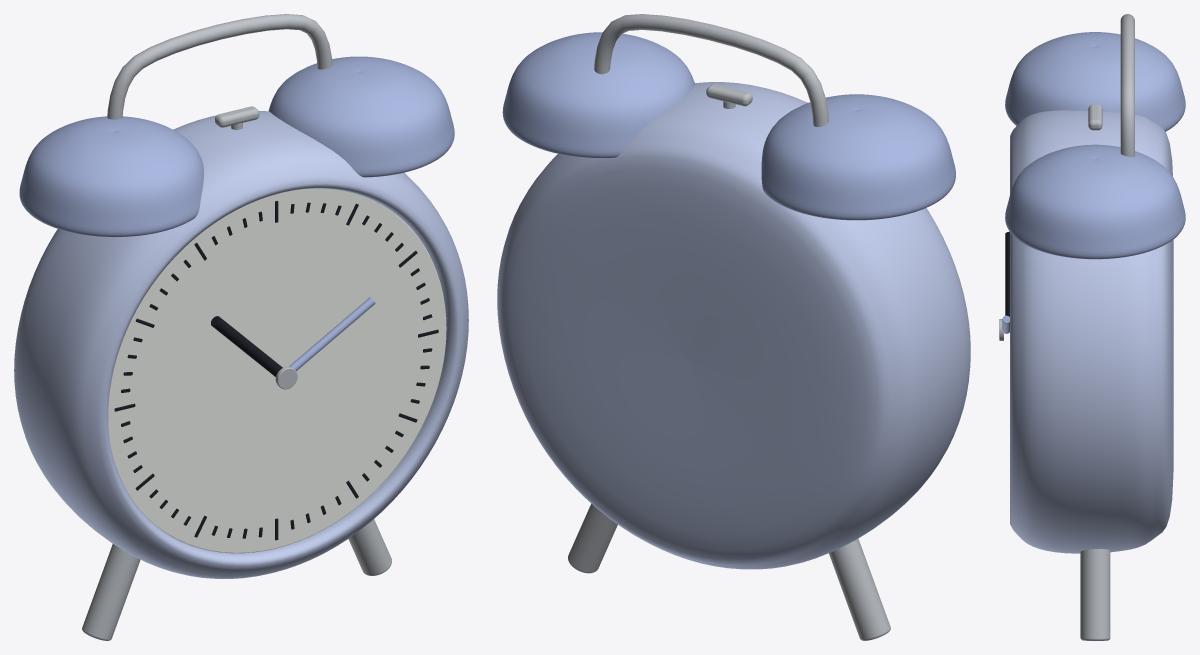
The model's file is alarm-clock.glb.
3 renders of one model, left to right at view 1: azimuth 30°, elevation 25°; view 2: azimuth 150°, elevation 25°; view 3: azimuth 270°, elevation 25°, orthographic. The views are drawn at different scales.
Parts seen in each view (by area): view 1: exposed-clock-dial-004, rounded-clock-case, hollow-domed-alarm-bell (×2), fixed-bell-supports-070, clock-case-and-legs-002, clock-case-and-legs-003, hour-hand-065, minute-hand-066; view 2: rounded-clock-case, hollow-domed-alarm-bell (×2), fixed-bell-supports-070, clock-case-and-legs-002, clock-case-and-legs-003, oscillating-alarm-hammer-074; view 3: rounded-clock-case, hollow-domed-alarm-bell (×2), clock-case-and-legs-003, fixed-bell-supports-070, hour-hand-065, oscillating-alarm-hammer-074.
Boxes of the visible parts, left/top/right/bottom form: exposed-clock-dial-004: left=108, top=188, right=446, bottom=553; rounded-clock-case: left=14, top=111, right=468, bottom=578; hollow-domed-alarm-bell (×2): left=19, top=56, right=454, bottom=237; fixed-bell-supports-070: left=107, top=14, right=332, bottom=119; clock-case-and-legs-002: left=82, top=544, right=140, bottom=640; clock-case-and-legs-003: left=348, top=519, right=391, bottom=575; hour-hand-065: left=211, top=316, right=282, bottom=376; minute-hand-066: left=289, top=297, right=375, bottom=370; rounded-clock-case: left=497, top=82, right=970, bottom=569; hollow-domed-alarm-bell (×2): left=502, top=32, right=955, bottom=220; fixed-bell-supports-070: left=594, top=14, right=828, bottom=126; clock-case-and-legs-002: left=829, top=538, right=890, bottom=640; clock-case-and-legs-003: left=568, top=503, right=617, bottom=573; oscillating-alarm-hammer-074: left=706, top=84, right=752, bottom=106; rounded-clock-case: left=1010, top=110, right=1173, bottom=553; hollow-domed-alarm-bell (×2): left=1005, top=32, right=1185, bottom=259; clock-case-and-legs-003: left=1080, top=549, right=1110, bottom=640; fixed-bell-supports-070: left=1120, top=14, right=1134, bottom=156; hour-hand-065: left=1005, top=231, right=1009, bottom=316; oscillating-alarm-hammer-074: left=1088, top=104, right=1102, bottom=130.
Size of the model in its own units: 1.51 by 2 by 0.6288.
